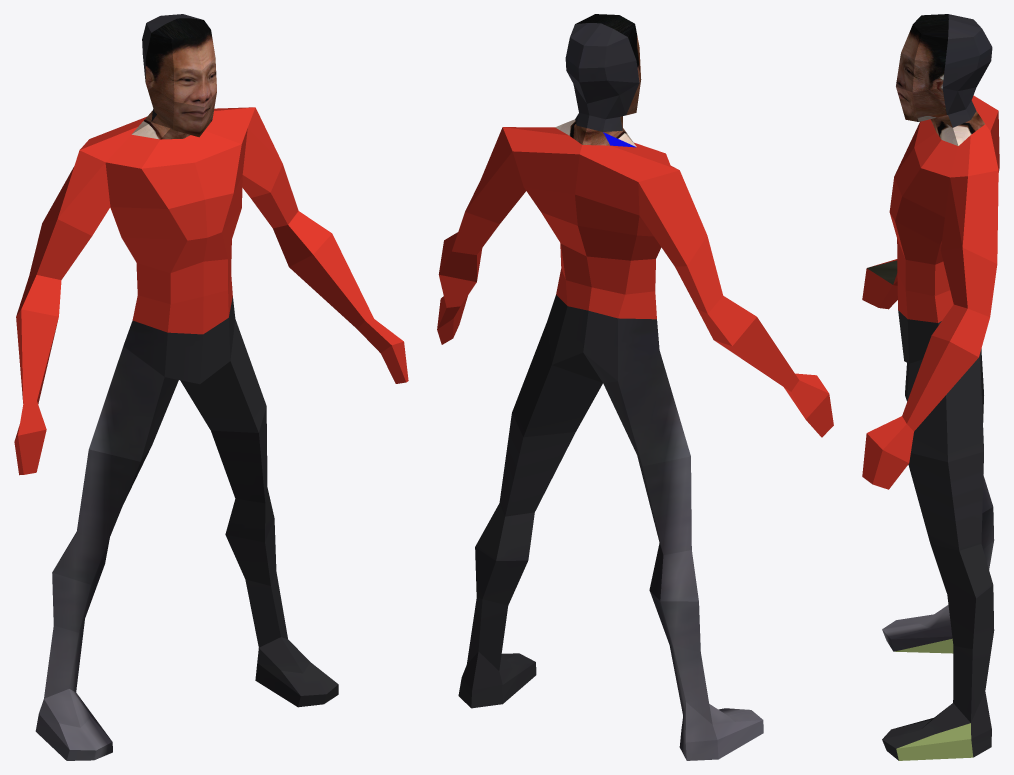
3 renders of one model, left to right at view 1: azimuth 30°, elevation 25°; view 2: azimuth 150°, elevation 25°; view 3: azimuth 270°, elevation 25°, orthographic. The views are drawn at different scales.
Visible parts, largest first — view 1: BASE_Low_Poly_Man_Cube.001; view 2: BASE_Low_Poly_Man_Cube.001; view 3: BASE_Low_Poly_Man_Cube.001.
Boxes of the visible parts, x1=… form: BASE_Low_Poly_Man_Cube.001: x1=14, y1=14, x2=408, y2=760; BASE_Low_Poly_Man_Cube.001: x1=437, y1=14, x2=833, y2=760; BASE_Low_Poly_Man_Cube.001: x1=862, y1=14, x2=999, y2=760.
Bounding box in the file's own units: 317 × 542 × 99.74.
